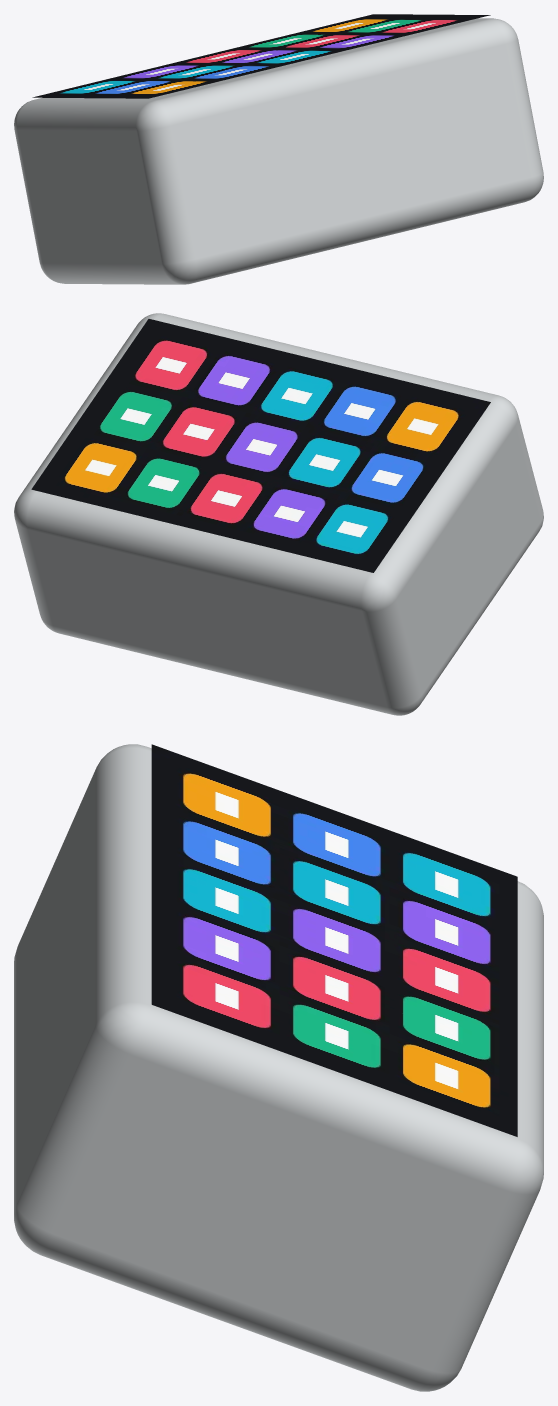
Rendered from atelier-gaming-streamdeck-arctic.glb.
3 renders of one model, top to bottom at view 1: azimuth 30°, elevation 25°; view 2: azimuth 150°, elevation 25°; view 3: azimuth 270°, elevation 25°, orthographic. The views are drawn at different scales.
Visible parts, largest first — view 1: object 1, Gaming macro key display; view 2: object 1, Gaming macro key display; view 3: object 1, Gaming macro key display.
Part boxes in pixels (x1,y1,x2,y2): object 1: [14, 18, 543, 284]; Gaming macro key display: [32, 14, 490, 98]; object 1: [14, 313, 543, 715]; Gaming macro key display: [31, 319, 490, 572]; object 1: [14, 744, 543, 1391]; Gaming macro key display: [151, 744, 517, 1136].
Size of the model in its own units: 0.135 by 0.0844 by 0.1049.
Materials: 2 (1 with a texture image).
